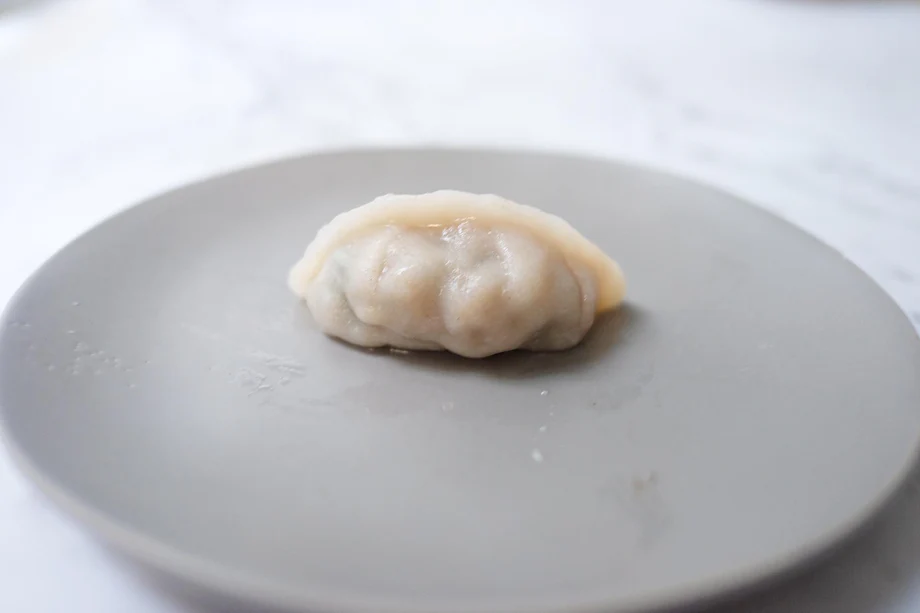momo: (291, 177, 631, 373)
